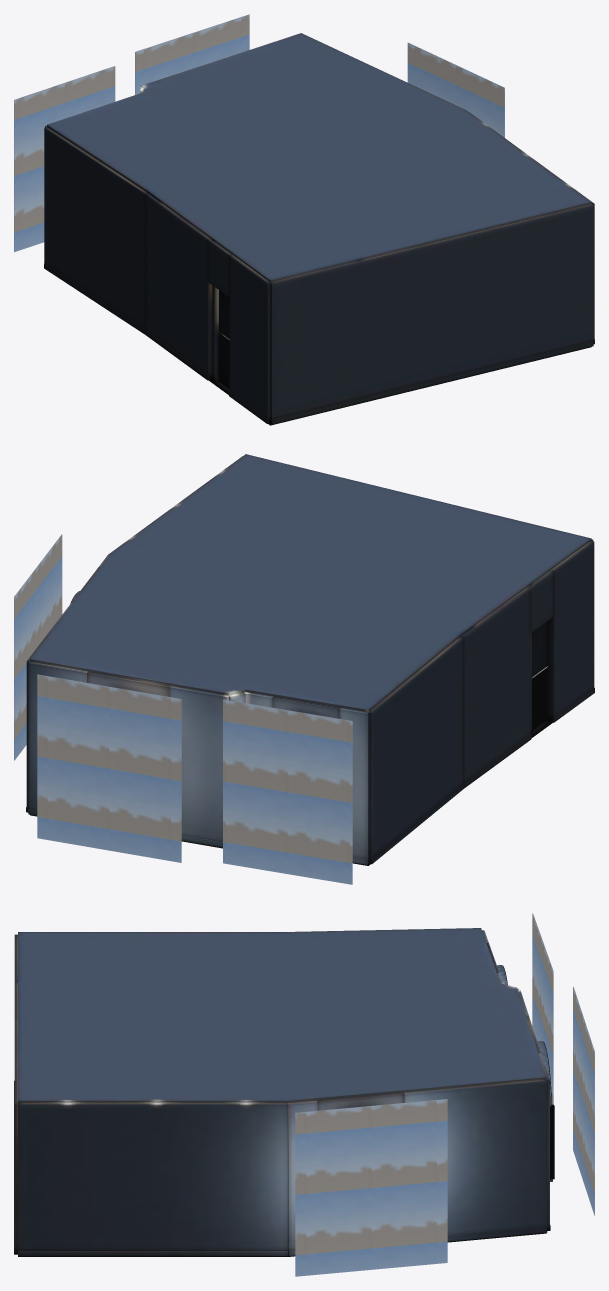
The model's file is twobed.glb.
3 views of the same model, one above another, from view 1: azimuth 30°, elevation 25°; view 2: azimuth 150°, elevation 25°; view 3: azimuth 270°, elevation 25° (orthographic). The views are drawn at different scales.
Parts seen in each view (by area): view 1: BAKED_interior, Ceiling_BAKED, Window_0_POSITION_UNSOURCED_backdrop, Window_2_POSITION_UNSOURCED_backdrop, Window_3_POSITION_UNSOURCED_backdrop; view 2: Ceiling_BAKED, BAKED_interior, Window_2_POSITION_UNSOURCED_backdrop, Window_0_POSITION_UNSOURCED_backdrop, Window_3_POSITION_UNSOURCED_backdrop; view 3: Ceiling_BAKED, BAKED_interior, Window_3_POSITION_UNSOURCED_backdrop, Window_2_POSITION_UNSOURCED_backdrop, Window_0_POSITION_UNSOURCED_backdrop.
Boxes of the visible parts, x1,y1,x2,y2 form: BAKED_interior: [44, 85, 594, 425]; Ceiling_BAKED: [47, 33, 591, 282]; Window_0_POSITION_UNSOURCED_backdrop: [14, 66, 115, 252]; Window_2_POSITION_UNSOURCED_backdrop: [135, 14, 249, 94]; Window_3_POSITION_UNSOURCED_backdrop: [407, 42, 504, 137]; Ceiling_BAKED: [30, 454, 591, 712]; BAKED_interior: [26, 456, 594, 865]; Window_2_POSITION_UNSOURCED_backdrop: [37, 674, 181, 862]; Window_0_POSITION_UNSOURCED_backdrop: [223, 699, 352, 884]; Window_3_POSITION_UNSOURCED_backdrop: [14, 534, 62, 760]; Ceiling_BAKED: [18, 928, 546, 1103]; BAKED_interior: [14, 930, 554, 1256]; Window_3_POSITION_UNSOURCED_backdrop: [295, 1099, 447, 1276]; Window_2_POSITION_UNSOURCED_backdrop: [573, 986, 594, 1215]; Window_0_POSITION_UNSOURCED_backdrop: [532, 913, 553, 1104].
Size of the model in its own units: 8.51 by 3.3 by 10.45.
Materials: 6 (2 with a texture image).
